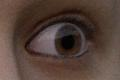eye: (55, 25, 82, 56)
